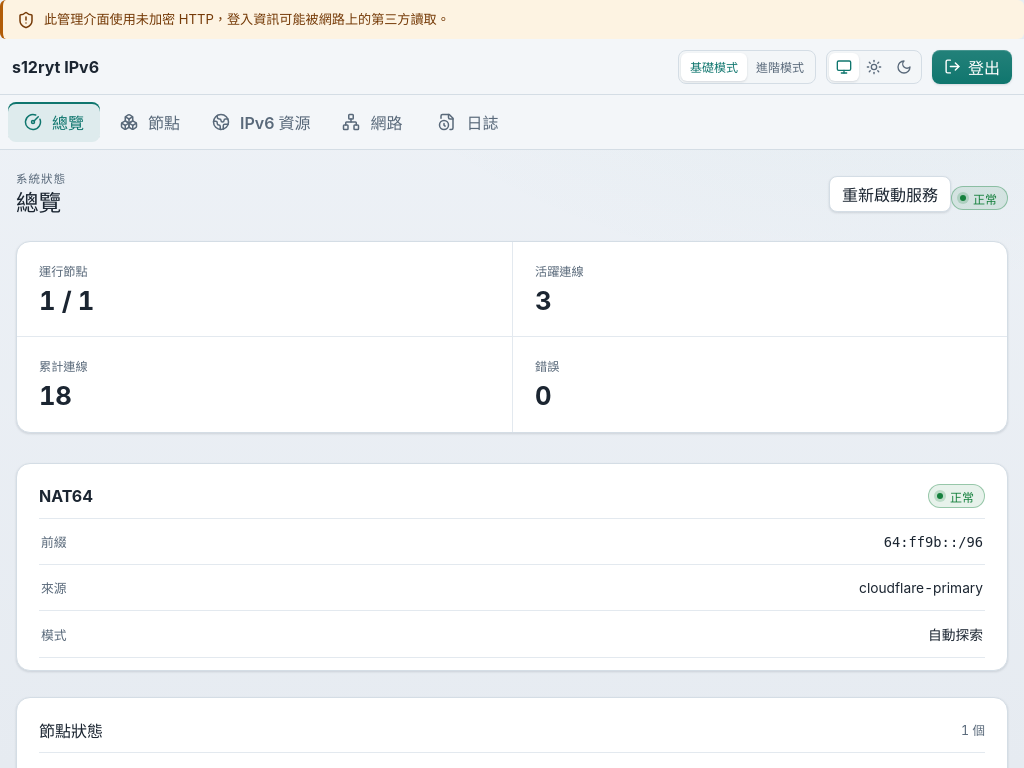
Scenario: App › refreshes only affected data from SSE events and closes the stream on logout
Check: the heading "總覽" is shown, box [16,188,66,219]
Step 1. Click the button "登出" → {"x": 972, "y": 66}, box [932,50,1012,84]
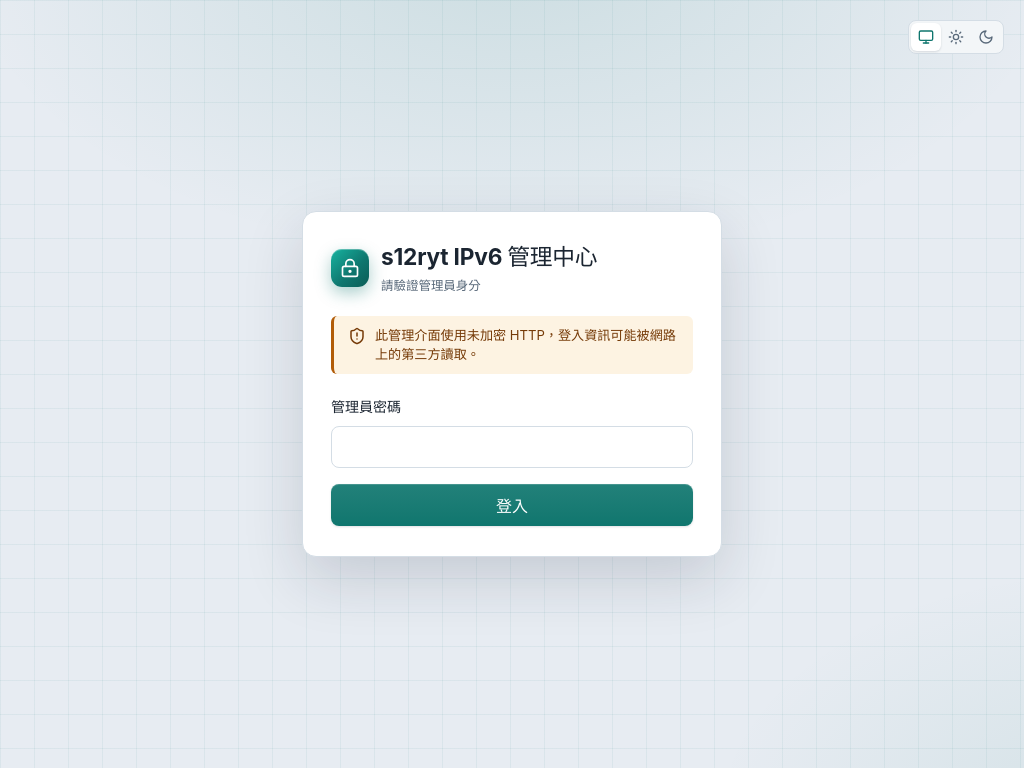
Check: the password field labelled "管理員密碼" is shown, box [331,426,693,468]
